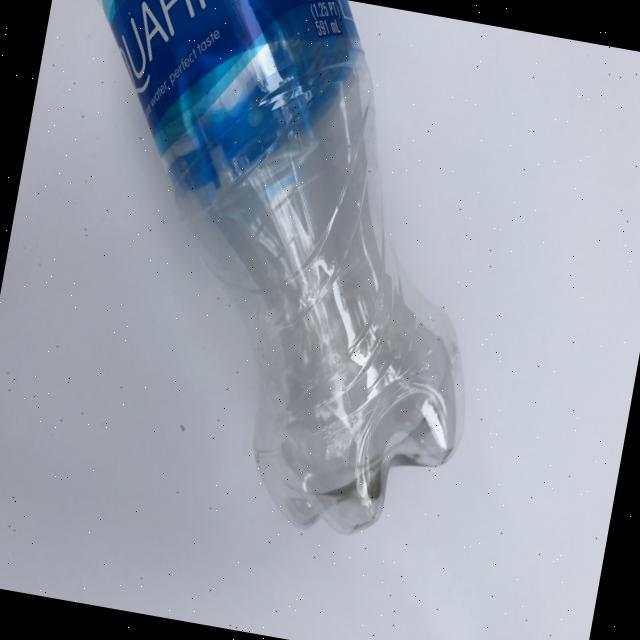plastic: (0, 0, 533, 555)
